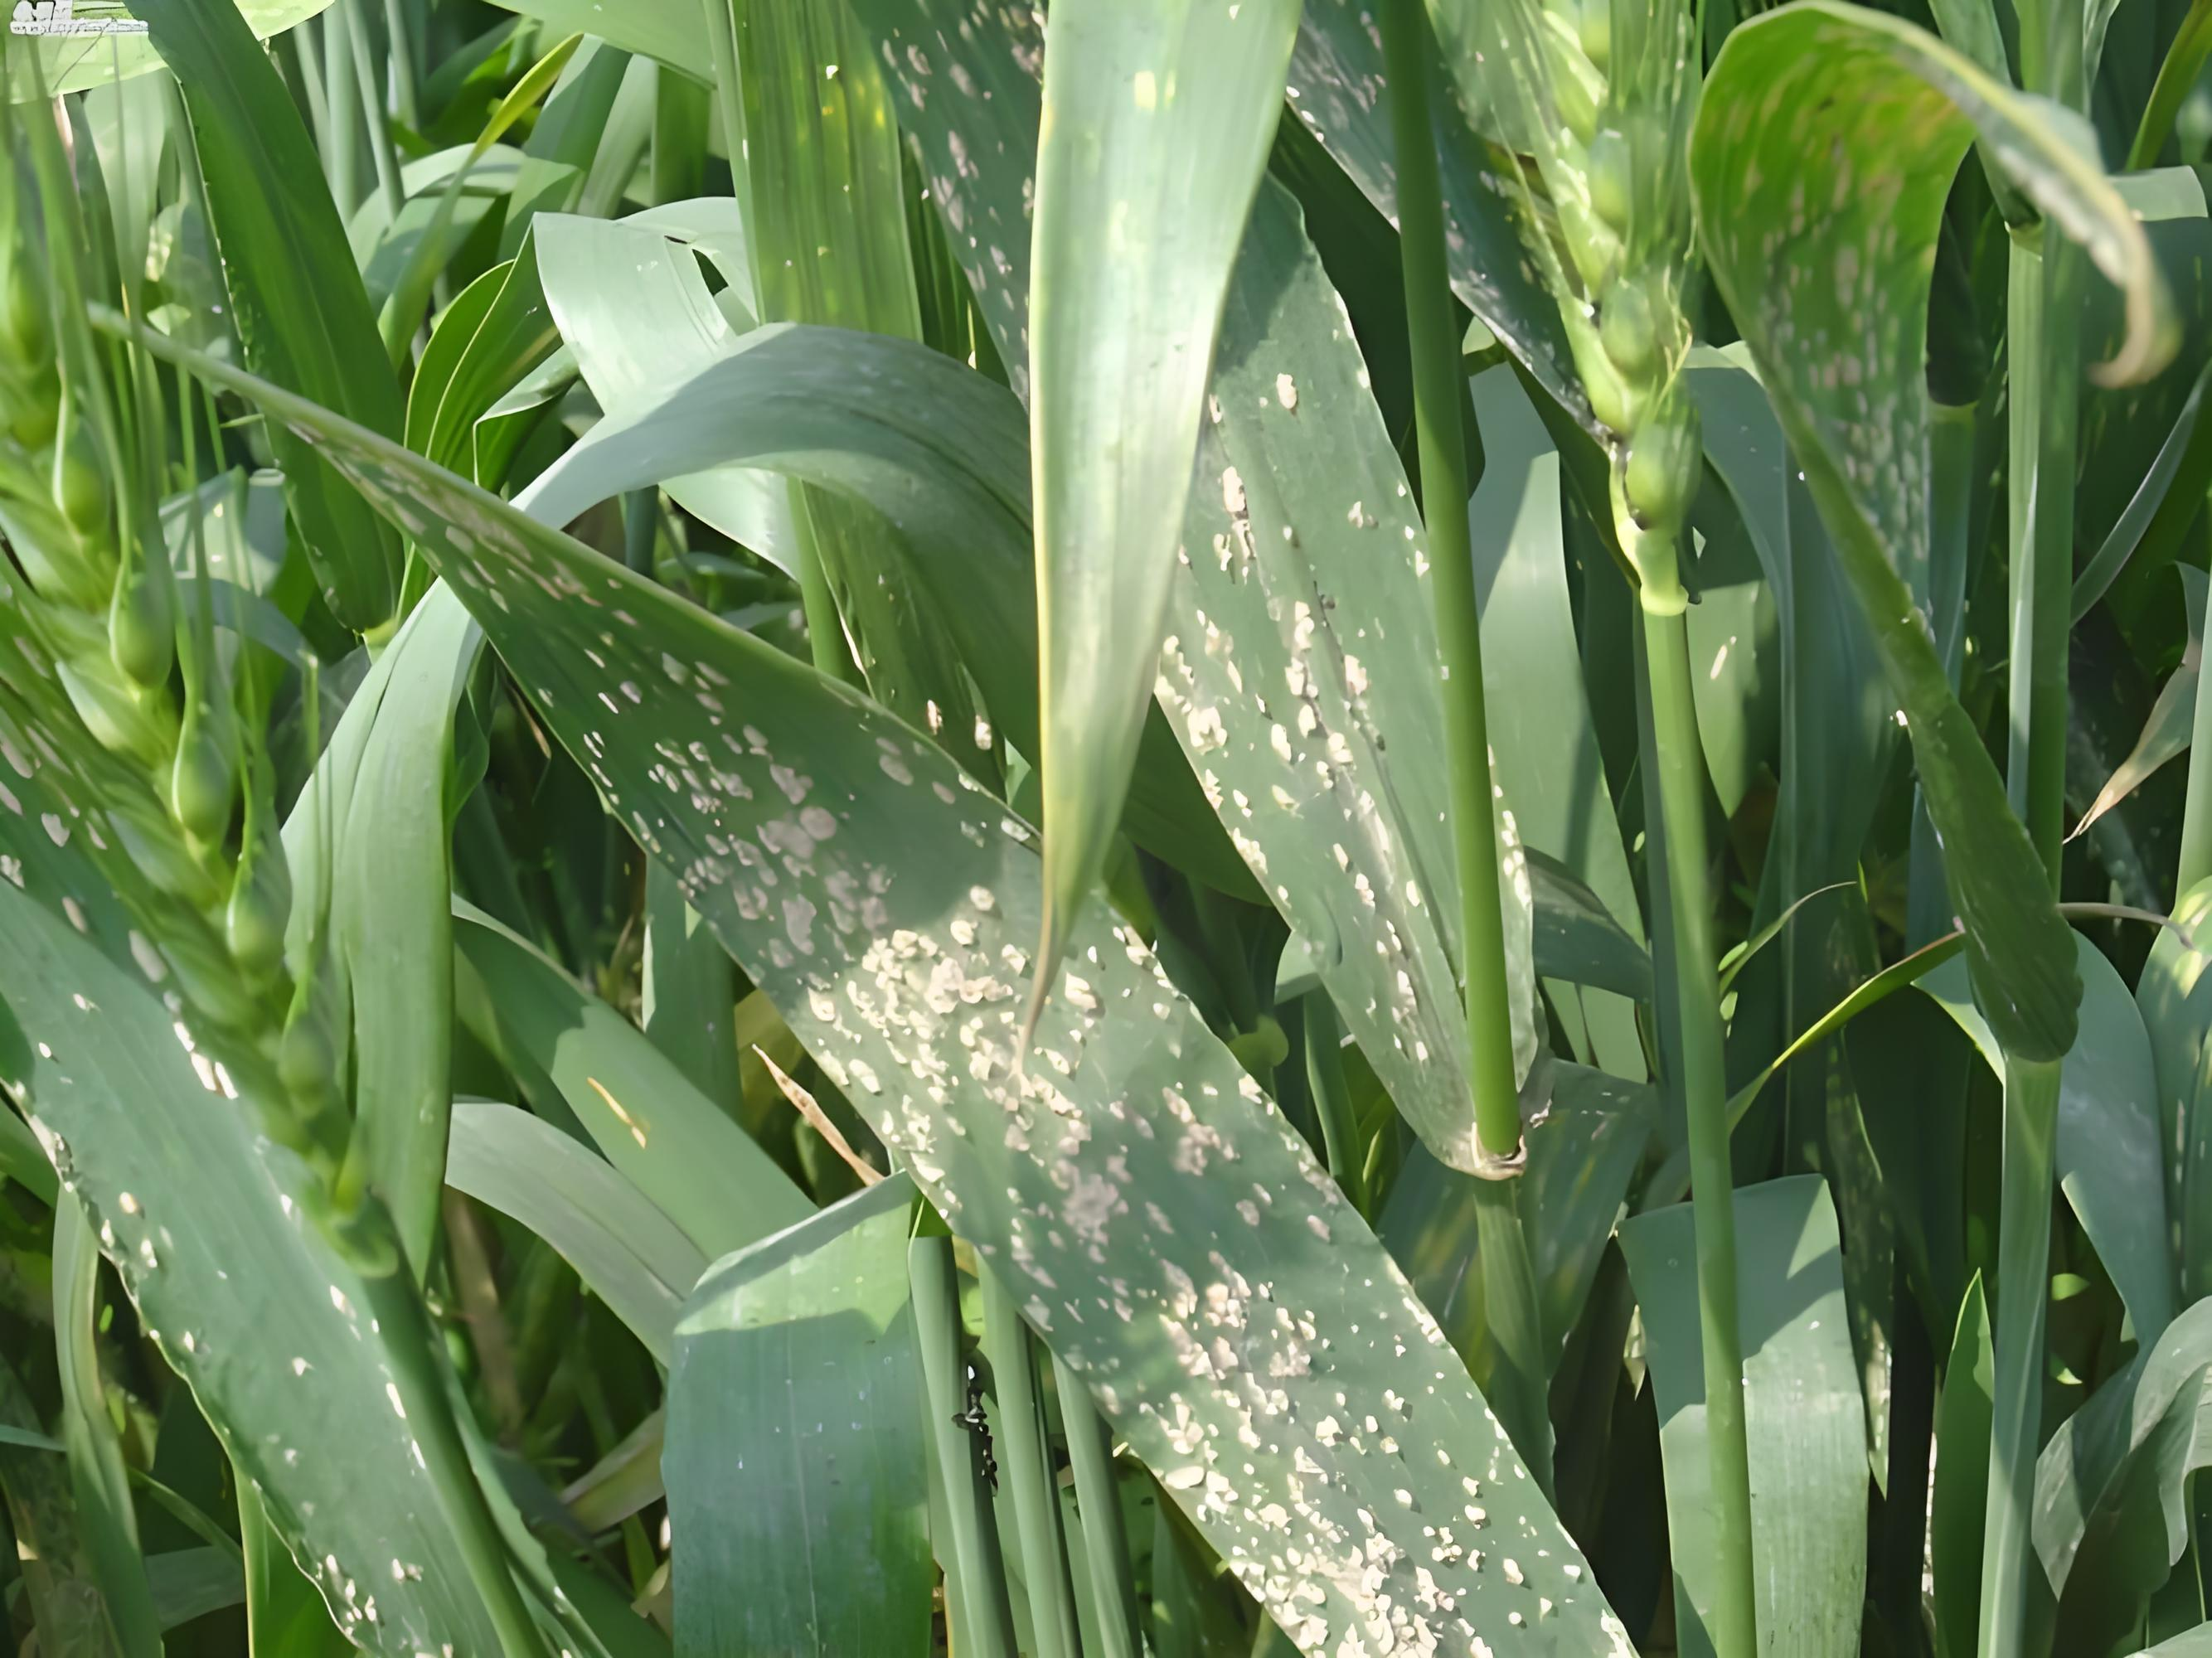Powdery Mildew: (585, 641, 1611, 1642)
